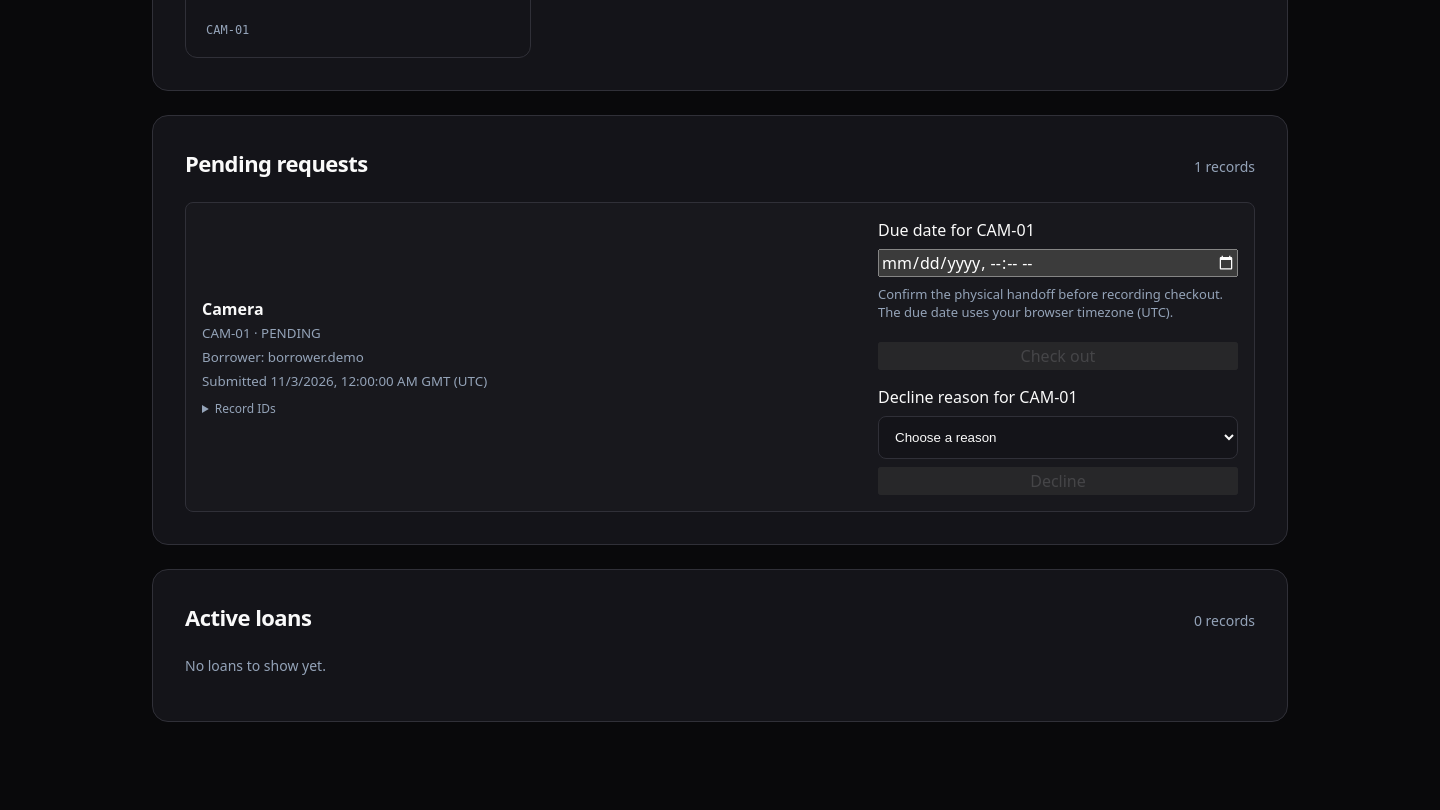
Test case: Custodian decline (mocked HTTP) › requires a reason, posts it with CSRF, and removes the request from the refreshed queue
(page scrolled)
expect the button "Decline" is disabled: met, box [878,467,1238,495]
Select "Equipment unavailable" in the dropdown labelled "Decline reason for CAM-01" at (1058, 438), box [878,416,1238,459]
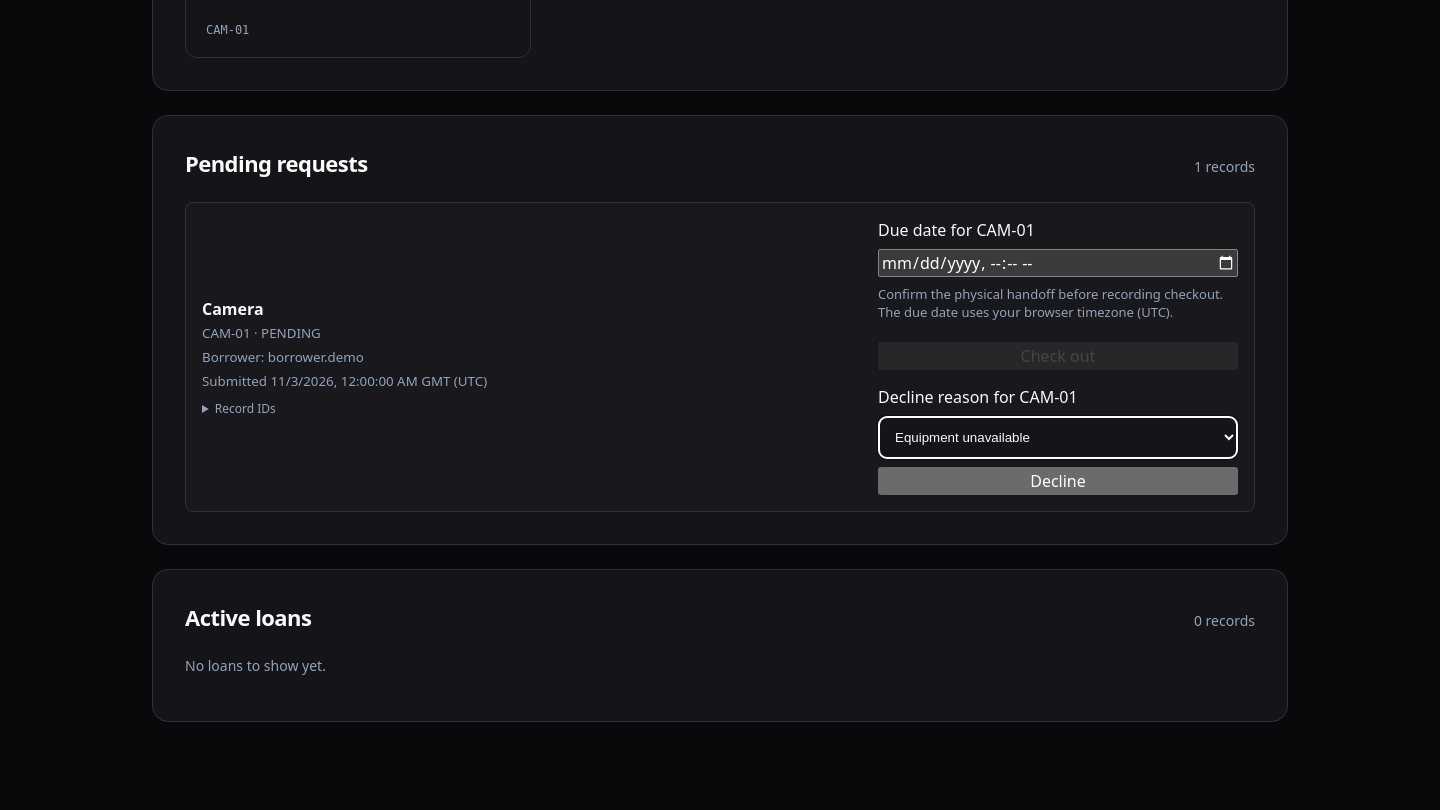
expect the button "Decline" is enabled: met
Click the button "Decline" at (1058, 481), box [878,467,1238,495]
(page scrolled)
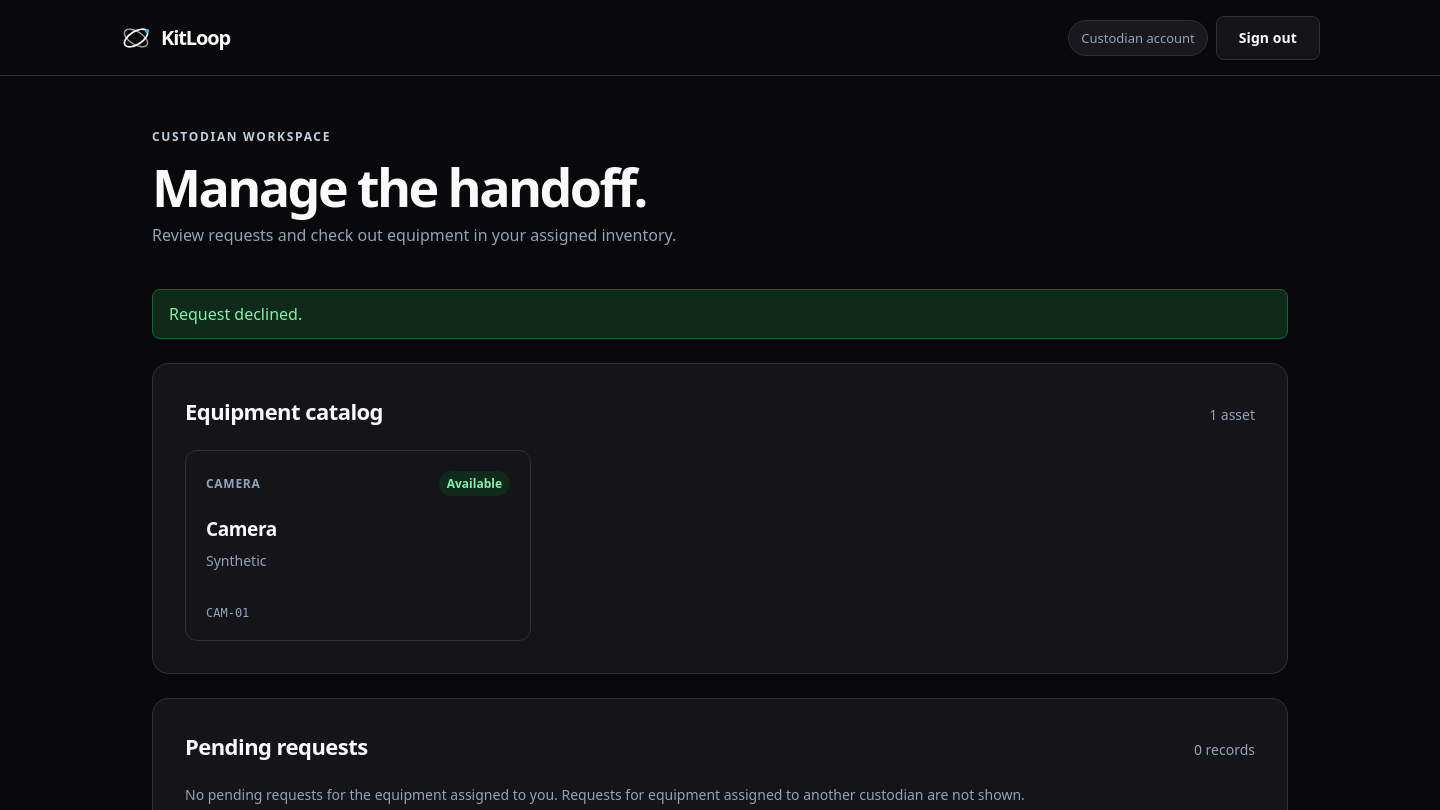
expect the text "Request declined." is shown: met, box [152,289,1288,339]
